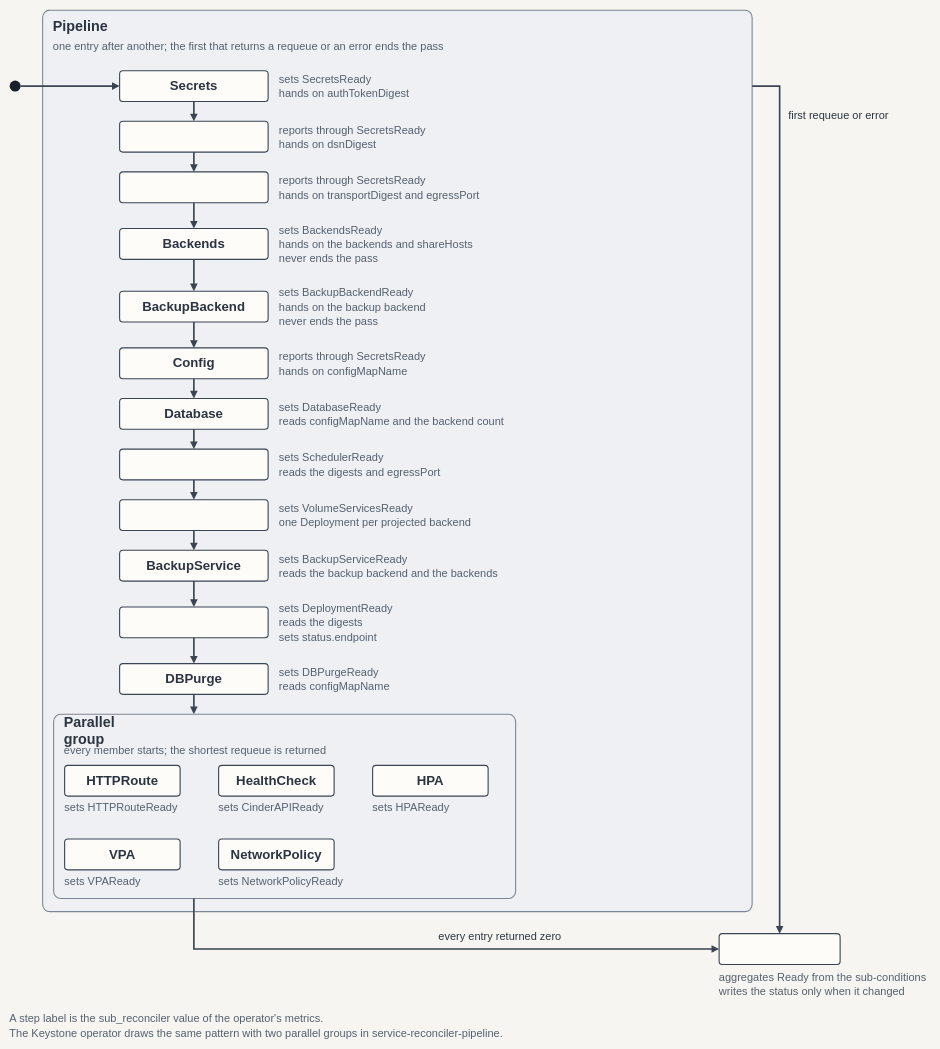
Image size: 940x1049. Some labels were removed from this diagram. The shapes that lost their labels are listed below. From the top down, each one's centre as x and y in pixels, then its label:
At (x=193, y=136): "DBConnectionSecret".
At (x=193, y=187): "TransportURLSecret".
At (x=193, y=464): "Scheduler".
At (x=193, y=515): "VolumeServices".
At (x=193, y=622): "Deployment".
At (x=779, y=949): "updateStatus".
